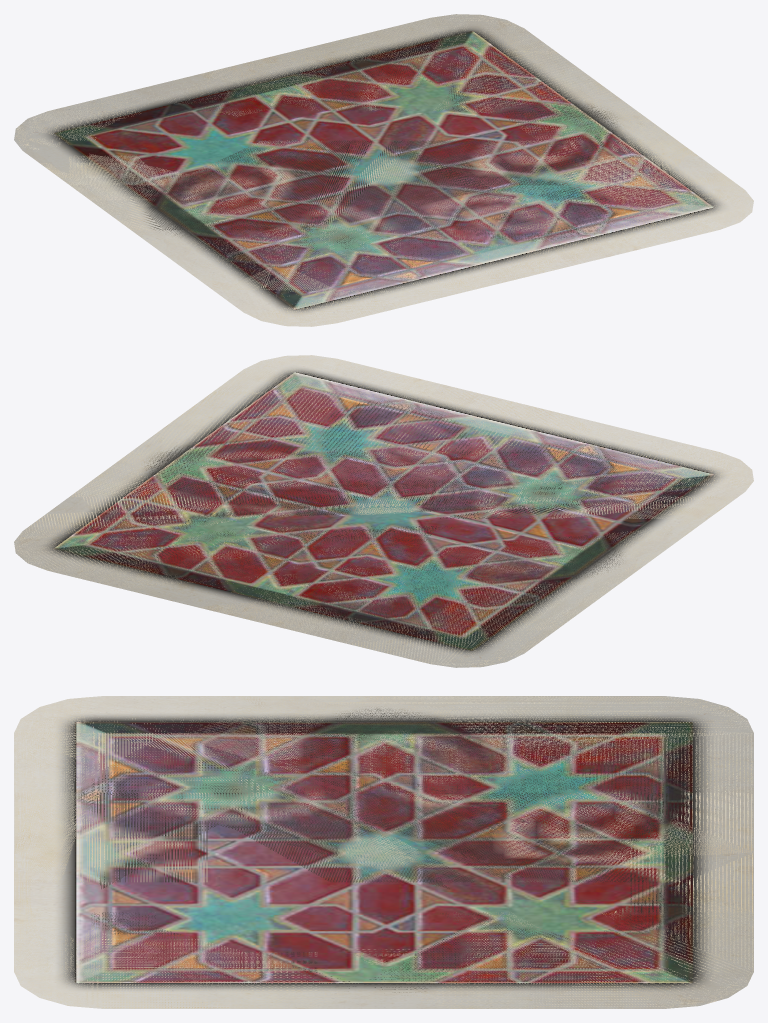
The model's file is card30.fbx.
The picture shows the model from 3 angles, top to bottom: view 1: azimuth 30°, elevation 25°; view 2: azimuth 150°, elevation 25°; view 3: azimuth 270°, elevation 25°; orthographic projection. The views are drawn at different scales.
Parts seen in each view (by area): view 1: polySurface1; view 2: polySurface1; view 3: polySurface1.
Part boxes in pixels (x1=…): polySurface1: x1=14, y1=14, x2=753, y2=326; polySurface1: x1=14, y1=355, x2=753, y2=667; polySurface1: x1=14, y1=696, x2=753, y2=1008.
Bounding box in the file's own units: 1 × 0 × 1.
